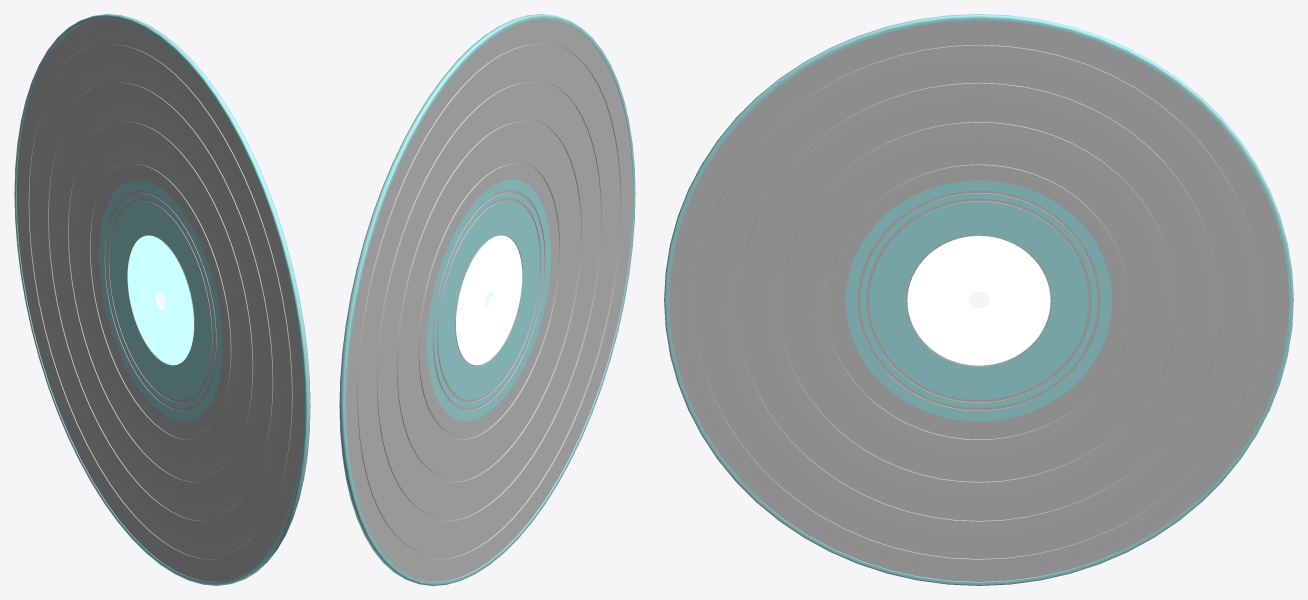
Rendered from Vinyl_disc.2f0b5899.glb.
3 renders of one model, left to right at view 1: azimuth 30°, elevation 25°; view 2: azimuth 150°, elevation 25°; view 3: azimuth 270°, elevation 25°, orthographic. The views are drawn at different scales.
Visible parts, largest first — view 1: Disc; view 2: Disc; view 3: Disc.
Boxes of the visible parts, left/top/right/bottom form: Disc: left=14, top=14, right=310, bottom=585; Disc: left=339, top=14, right=635, bottom=585; Disc: left=664, top=14, right=1293, bottom=585.
Size of the model in its own units: 0.052 by 4.96 by 4.96.
